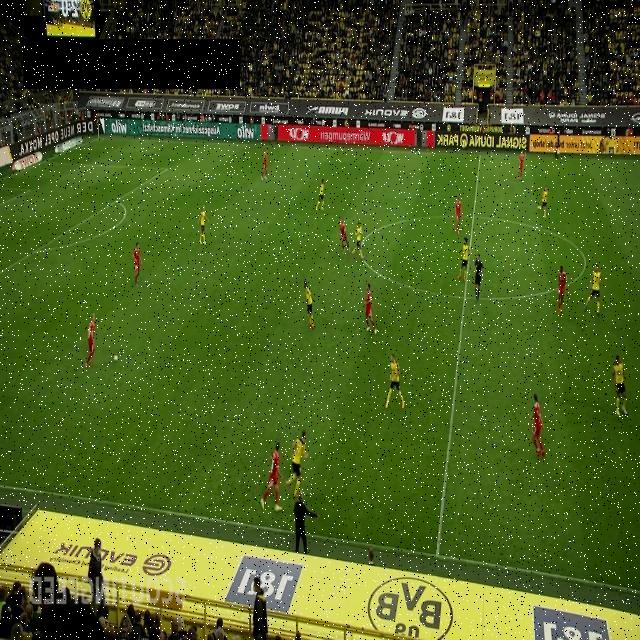Ball: (114, 354, 118, 362)
Corner: (97, 118, 100, 140)
Referee: (474, 253, 484, 303), (553, 130, 561, 160)
TEAM 1: (260, 442, 282, 512), (530, 392, 546, 456), (363, 282, 377, 336), (85, 313, 96, 368), (558, 265, 568, 315), (132, 242, 143, 286), (339, 217, 350, 255), (454, 196, 462, 235), (517, 150, 526, 180), (260, 150, 268, 180)
TEAM 2: (284, 428, 309, 498), (384, 354, 406, 411), (612, 354, 628, 416), (584, 263, 602, 317), (457, 237, 471, 281), (303, 280, 315, 331), (350, 221, 365, 261), (197, 204, 210, 246), (538, 186, 548, 220), (315, 178, 325, 212)
